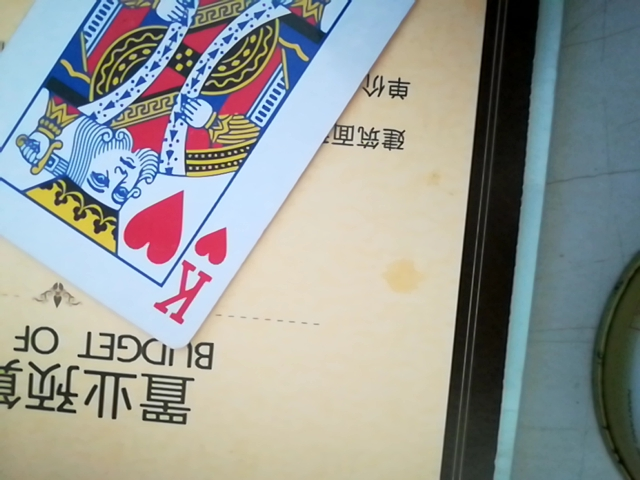hx k: (2, 0, 457, 354)
